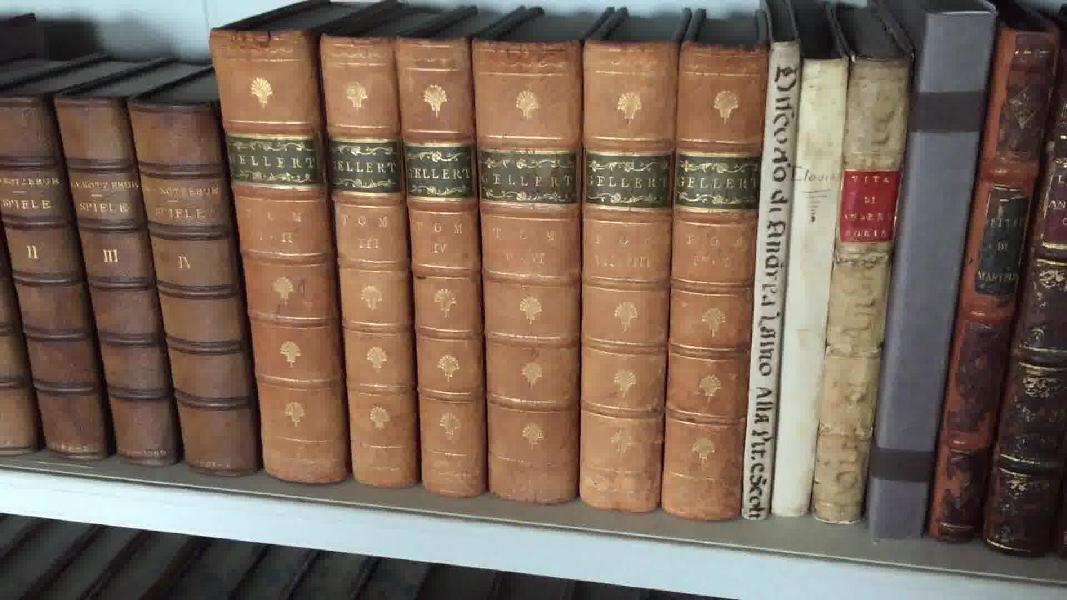Aa6-18_23: (198, 24, 767, 527)
Aa6-24: (740, 25, 802, 531)
Aa6-25: (771, 34, 848, 523)
Aa6-26: (804, 35, 911, 528)
Aa6-27: (871, 1, 981, 536)
Aa6-28: (924, 9, 1058, 548)
